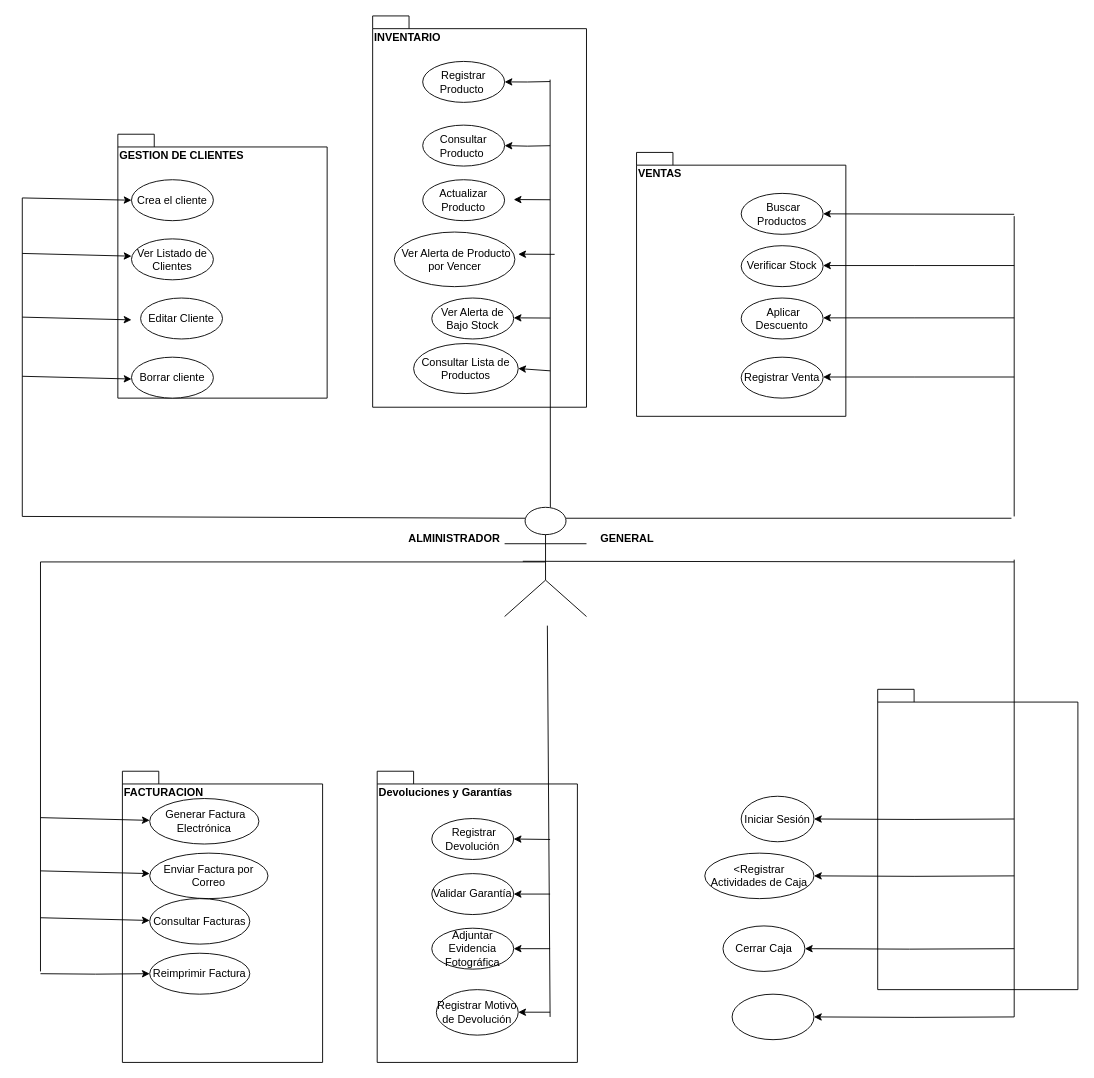
Some shapes in this 1094 by 1078 pixel diagram are drawn without their labels. The centre of each missing label's shape, as x and y in pixels:
Actor: (x=545, y=561)
Alerta de Acción No Permitida: (x=772, y=1016)
Control de Cajas y Autenticación: (x=977, y=839)
